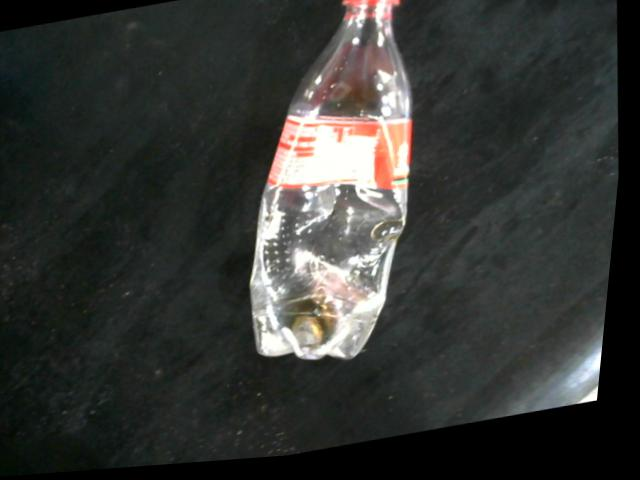bottle: (253, 0, 418, 369)
